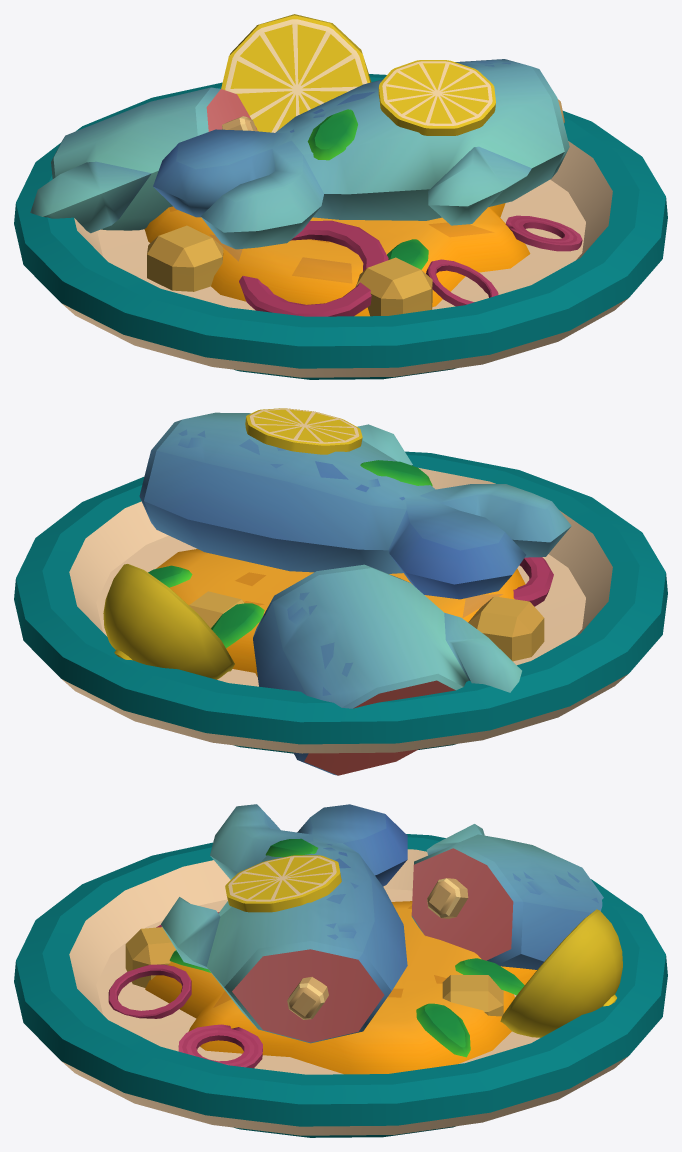
File: Dish_2_Ready.glb
3 views of the same model, one above another, from view 1: azimuth 30°, elevation 25°; view 2: azimuth 150°, elevation 25°; view 3: azimuth 270°, elevation 25° (orthographic).
Parts seen in each view (by area): view 1: Dish_2_Ready; view 2: Dish_2_Ready; view 3: Dish_2_Ready.
Boxes of the visible parts, x1,y1,x2,y2 form: Dish_2_Ready: [14, 14, 667, 379]; Dish_2_Ready: [14, 408, 667, 775]; Dish_2_Ready: [14, 804, 667, 1137].
Bounding box in the file's own units: 0.4347 × 0.1562 × 0.4352.
Materials: 1 (1 with a texture image).
